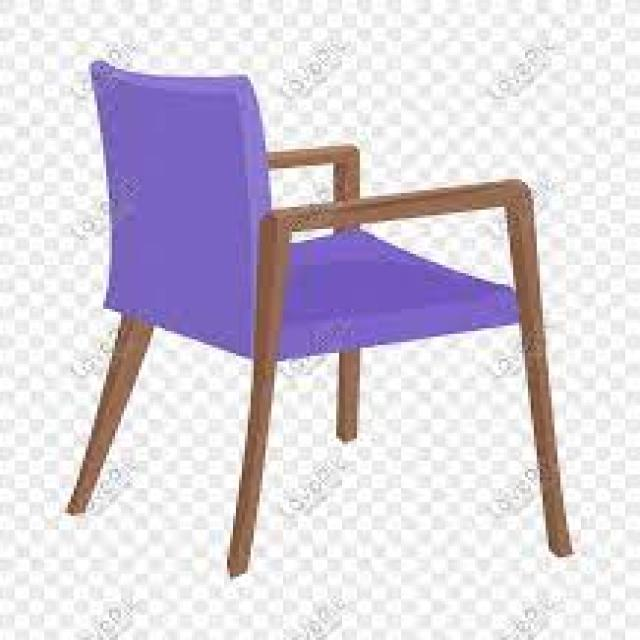chair: (53, 28, 584, 578)
